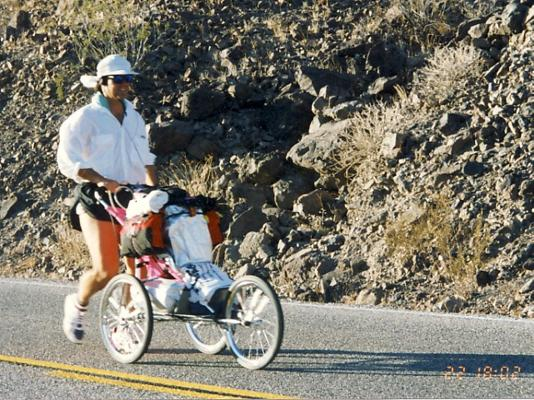person: (57, 52, 161, 340)
